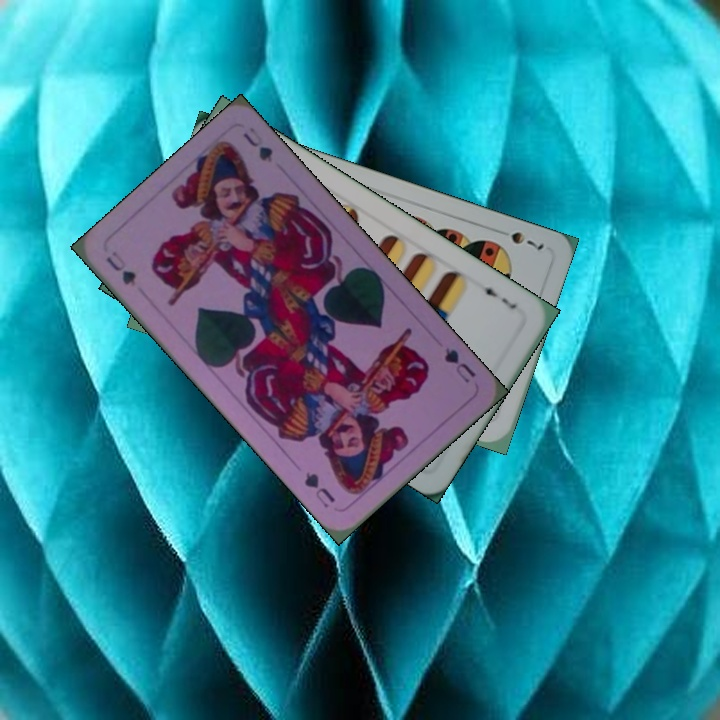E7: (476, 279, 520, 312)
GU: (440, 344, 479, 386), (101, 247, 139, 288)
S7: (491, 224, 547, 253)
